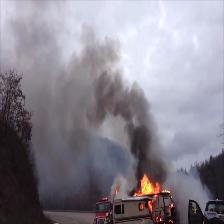fire: (139, 178, 158, 194)
smoke: (29, 66, 104, 117), (122, 103, 155, 165)
